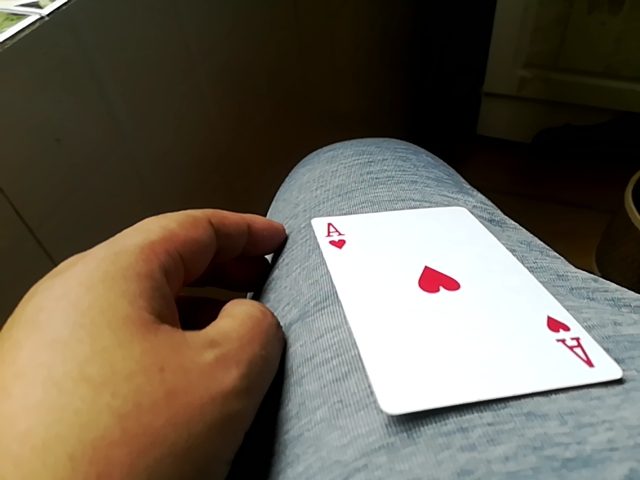hx a: (311, 202, 622, 419)
